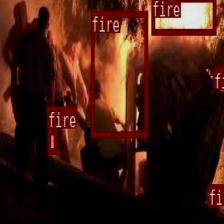fire: (90, 10, 147, 136), (150, 0, 215, 33), (47, 128, 56, 154), (207, 184, 217, 206), (213, 67, 224, 87)
